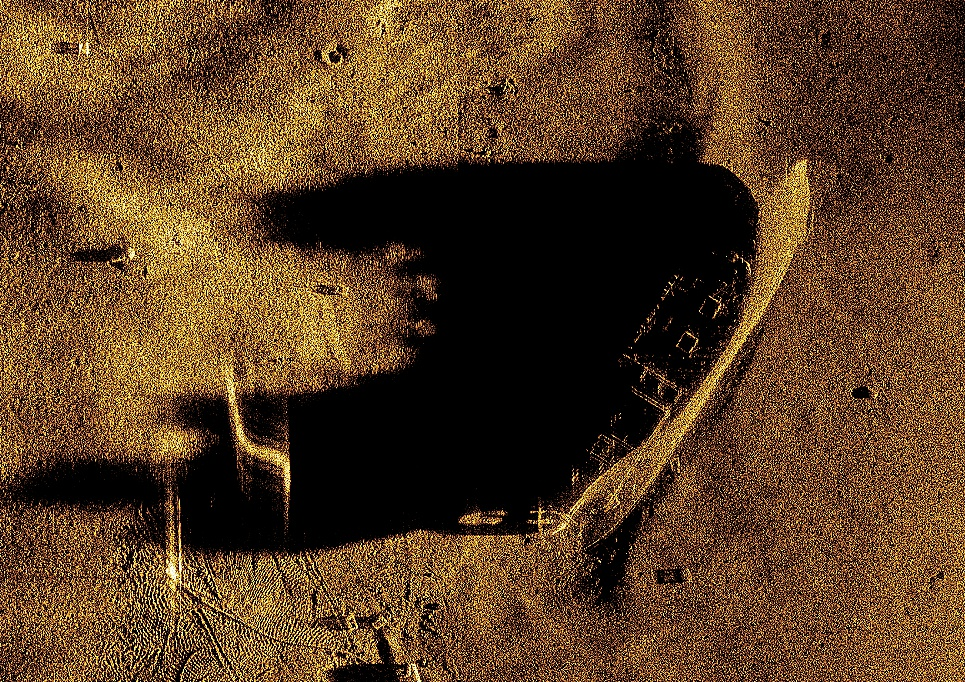ship: (524, 156, 813, 557)
